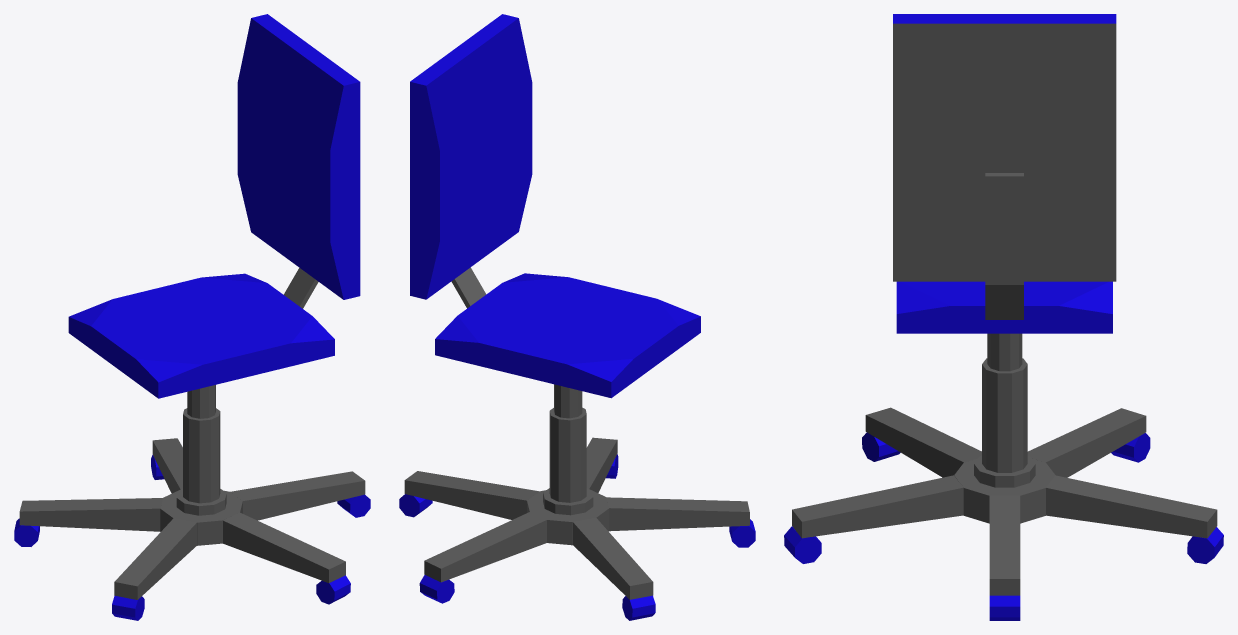
Rendered from Kontorstol2uvwqrapping.fbx.
3 renders of one model, left to right at view 1: azimuth 30°, elevation 25°; view 2: azimuth 150°, elevation 25°; view 3: azimuth 270°, elevation 25°, orthographic. The views are drawn at different scales.
Visible parts, largest first — view 1: Cylinder.002; view 2: Cylinder.002; view 3: Cylinder.002.
Part boxes in pixels (<box>): Cylinder.002: <box>14,14,370,620</box>; Cylinder.002: <box>399,14,755,620</box>; Cylinder.002: <box>784,14,1223,620</box>.
Size of the model in its own units: 2727 by 4100 by 2859.
